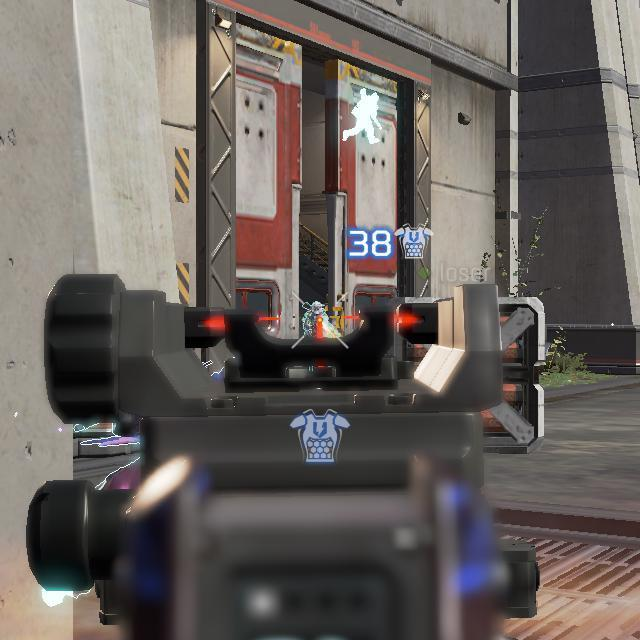avatar: (301, 299, 331, 338)
